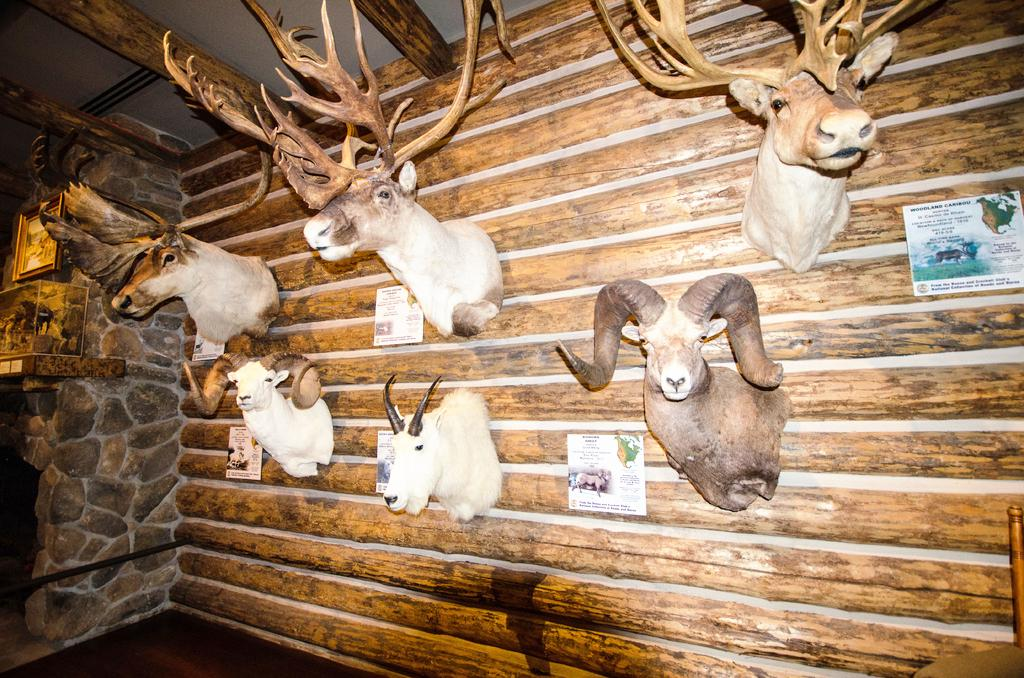Sheep: (554, 269, 811, 527), (176, 344, 344, 491)
